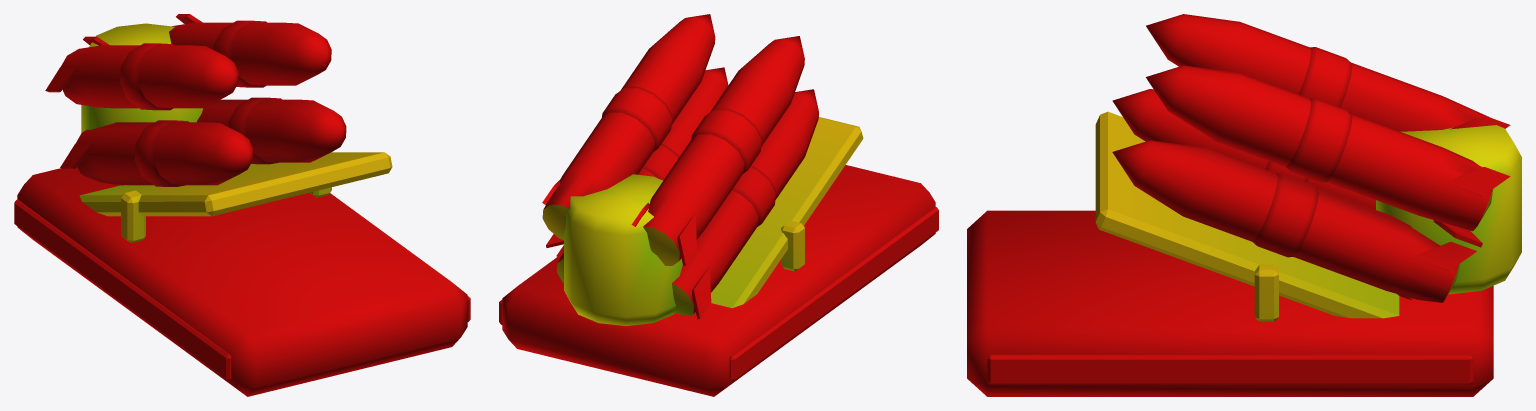
File: RobotRocket.glb
3 views of the same model, side by side, from view 1: azimuth 30°, elevation 25°; view 2: azimuth 150°, elevation 25°; view 3: azimuth 270°, elevation 25° (orthographic). The views are drawn at different scales.
Visible parts, largest first — view 1: RobotRocket; view 2: RobotRocket; view 3: RobotRocket.
Boxes of the visible parts, x1,y1,x2,y2 form: RobotRocket: (14,14,470,396); RobotRocket: (499,14,938,396); RobotRocket: (967,14,1521,396).
Size of the model in its own units: 1.34 by 1.38 by 2.33.
